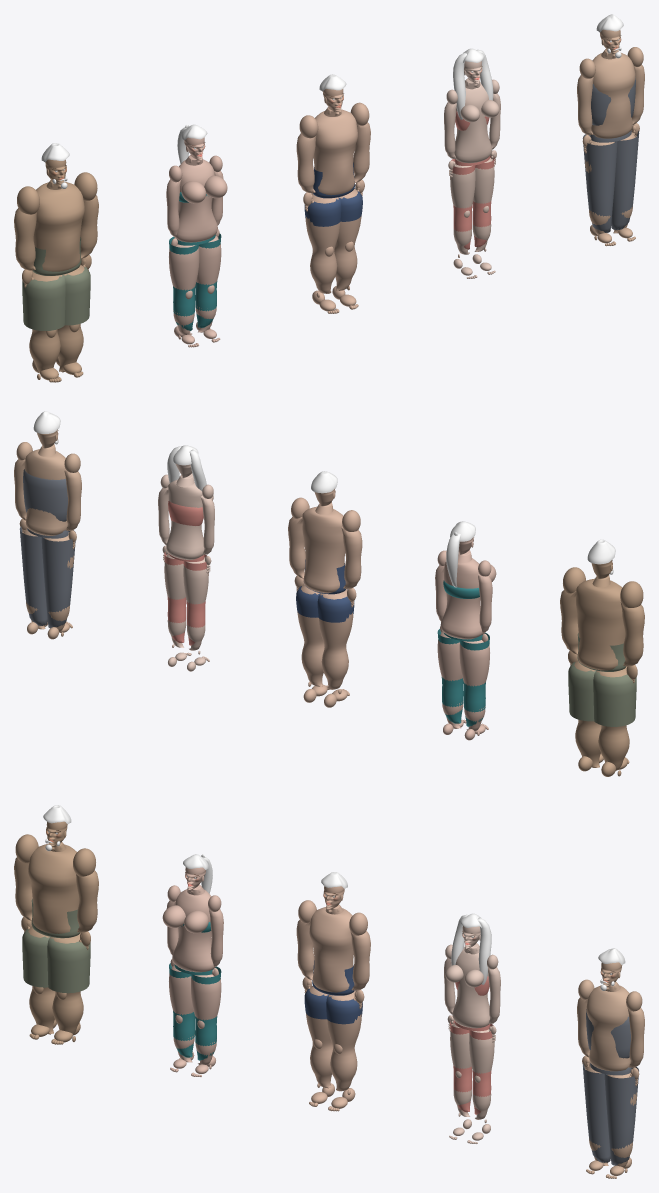
File: human_models_lineup.glb
3 renders of one model, top to bottom at view 1: azimuth 30°, elevation 25°; view 2: azimuth 150°, elevation 25°; view 3: azimuth 330°, elevation 25°, orthographic.
Parts seen in each view (by area): view 1: Body_male_stocky, Body_male_athletic, Body_female_natural, Body_female_slender, Body_male_mature, Garment_Pants, Garment_Shorts, Garment_Leggings, Garment_Shorts.001, Garment_Leggings.001, Hair_long_wavy, Garment_Shirt (+1 smaller); view 2: Body_male_stocky, Body_male_athletic, Body_female_natural, Body_female_slender, Body_male_mature, Garment_Pants, Garment_Shorts, Garment_Leggings, Garment_Shirt, Garment_Shorts.001, Garment_Leggings.001, Hair_long_wavy (+3 smaller); view 3: Body_male_stocky, Body_male_athletic, Body_female_natural, Body_female_slender, Body_male_mature, Garment_Pants, Garment_Shorts, Garment_Leggings, Garment_Shorts.001, Garment_Leggings.001, Hair_long_wavy, Garment_Shirt (+1 smaller).
Part boxes in pixels (x1,y1,x2,y2): Body_male_stocky: (14,159,98,382); Body_male_athletic: (296,89,370,313); Body_female_natural: (166,137,227,347); Body_female_slender: (444,61,500,278); Body_male_mature: (577,29,644,246); Garment_Pants: (582,130,639,232); Garment_Shorts: (22,237,90,330); Garment_Leggings: (169,233,221,330); Garment_Shorts.001: (304,162,362,226); Garment_Leggings.001: (451,155,494,249); Hair_long_wavy: (453,48,493,119); Garment_Shirt: (591,76,635,125); Body_male_stocky: (560,560,644,776); Body_male_athletic: (288,489,362,707); Body_female_natural: (435,537,496,740); Body_female_slender: (158,464,214,671); Body_male_mature: (14,430,81,639); Garment_Pants: (19,526,75,628); Garment_Shorts: (568,633,636,726); Garment_Leggings: (437,629,489,726); Garment_Shirt: (23,469,67,521); Garment_Shorts.001: (296,559,354,622); Garment_Leggings.001: (164,552,208,645); Hair_long_wavy: (167,445,206,491); Body_male_stocky: (14,821,98,1044); Body_male_athletic: (296,886,370,1111); Body_female_natural: (162,867,223,1076); Body_female_slender: (444,926,500,1143); Body_male_mature: (577,962,644,1178); Garment_Pants: (583,1063,638,1165); Garment_Shorts: (22,899,90,993); Garment_Leggings: (169,963,221,1060); Garment_Shorts.001: (304,960,362,1024); Garment_Leggings.001: (450,1020,493,1114); Hair_long_wavy: (451,913,491,984); Garment_Shirt: (586,1009,630,1058).
Size of the model in its own units: 5.44 by 1.92 by 0.4624.
